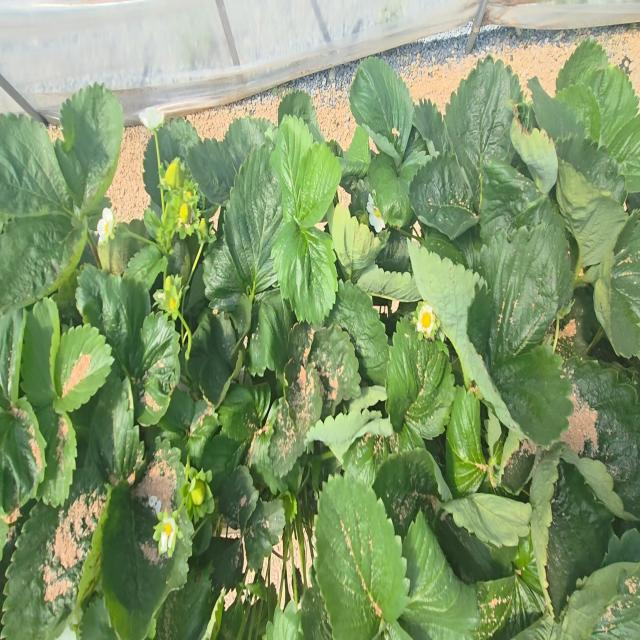Flowers: (153, 511, 178, 556), (413, 301, 439, 338), (366, 193, 385, 232), (139, 106, 164, 130), (97, 209, 113, 242)
Leaves: (3, 468, 107, 639), (468, 286, 573, 445), (316, 475, 408, 639), (561, 338, 640, 519), (480, 220, 572, 369), (101, 482, 183, 639), (444, 56, 520, 209), (547, 461, 613, 615), (400, 513, 478, 639), (55, 82, 124, 216), (225, 145, 283, 295), (0, 215, 87, 311), (386, 320, 455, 439), (271, 212, 338, 328), (0, 114, 73, 217), (479, 160, 564, 240), (349, 57, 413, 162), (86, 373, 144, 484), (368, 130, 430, 229), (410, 149, 477, 239), (331, 281, 388, 385), (373, 450, 438, 537), (50, 325, 113, 414), (0, 390, 46, 511), (133, 312, 180, 426), (101, 274, 150, 380), (271, 116, 317, 223), (581, 65, 638, 151), (606, 219, 640, 359), (155, 564, 218, 639), (33, 402, 77, 507), (308, 325, 361, 410), (472, 575, 542, 639), (446, 387, 486, 496), (21, 298, 60, 408), (296, 143, 341, 226), (187, 139, 235, 204), (268, 397, 305, 479), (203, 239, 245, 311), (218, 383, 270, 441), (244, 500, 284, 571), (556, 81, 602, 142), (556, 39, 609, 89), (218, 465, 259, 528), (75, 264, 112, 333), (224, 117, 271, 171), (287, 366, 322, 438), (123, 244, 167, 290), (414, 100, 451, 154), (157, 118, 200, 164), (339, 125, 371, 180), (143, 139, 159, 204)
Strawberries: (165, 158, 184, 188), (191, 480, 207, 505), (163, 276, 178, 293), (166, 294, 179, 312), (179, 203, 190, 224), (198, 219, 209, 240)
